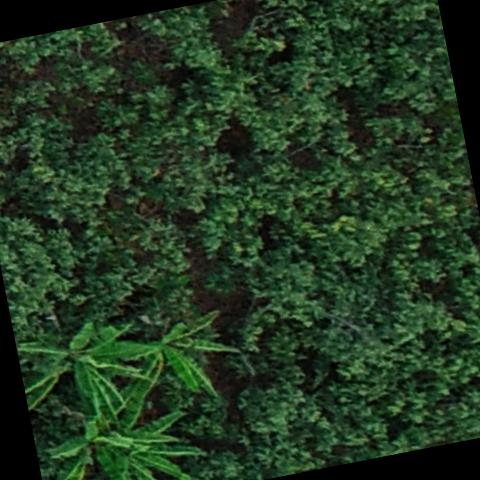Banana-plant: (11, 294, 172, 438)
